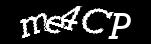4: (60, 5, 81, 30)
C: (81, 8, 113, 33)
P: (108, 13, 130, 38)
e: (44, 15, 64, 33)
m: (20, 13, 50, 38)
